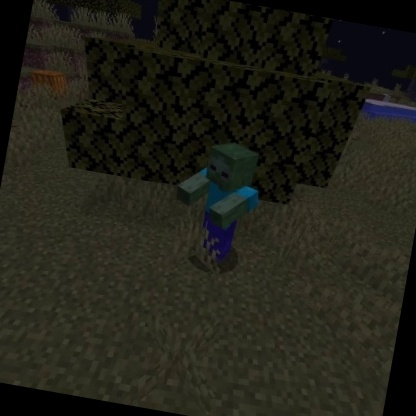zombie: (160, 131, 273, 276)
